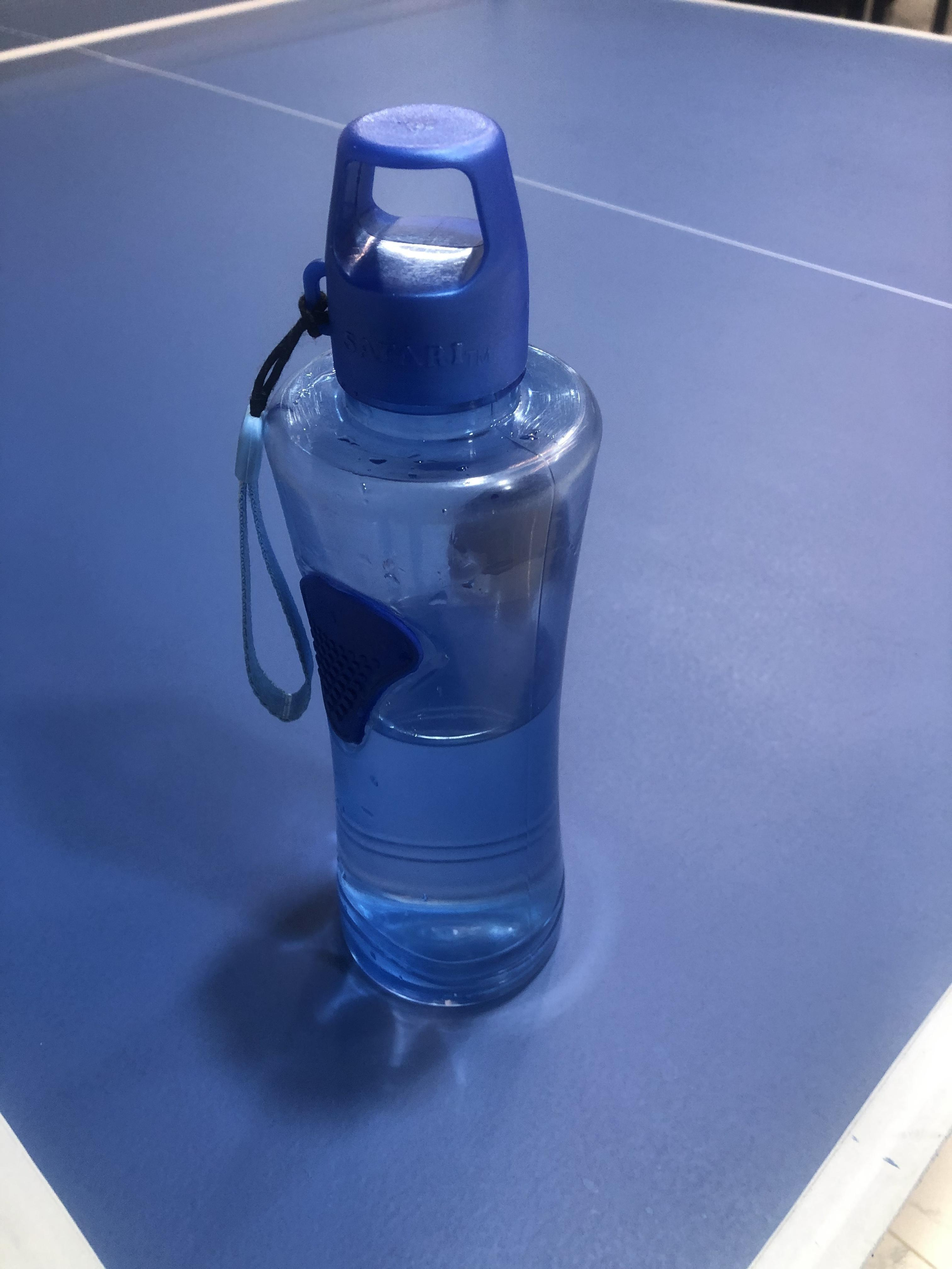gym bottle: (209, 94, 613, 1021)
